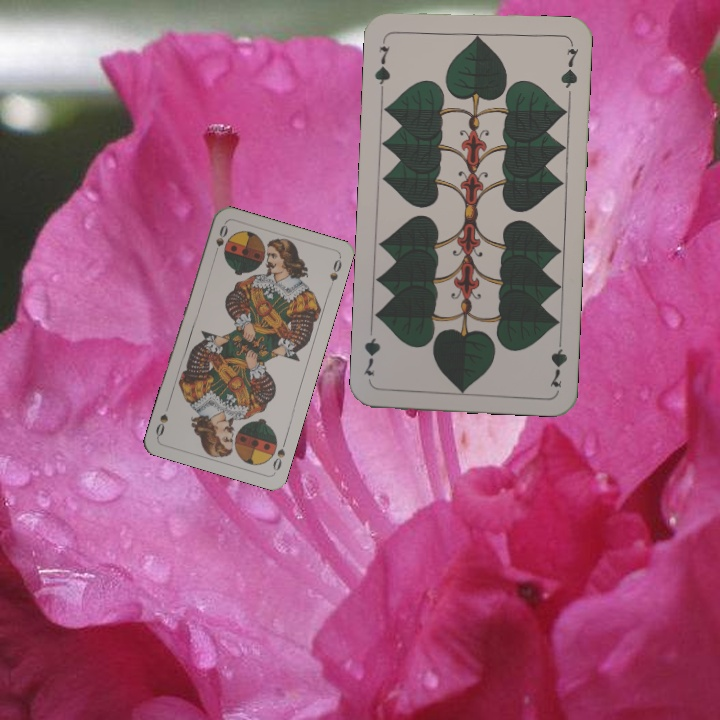G7: (545, 331, 570, 390), (370, 34, 393, 93)
SO: (210, 220, 231, 260), (269, 435, 289, 474)
